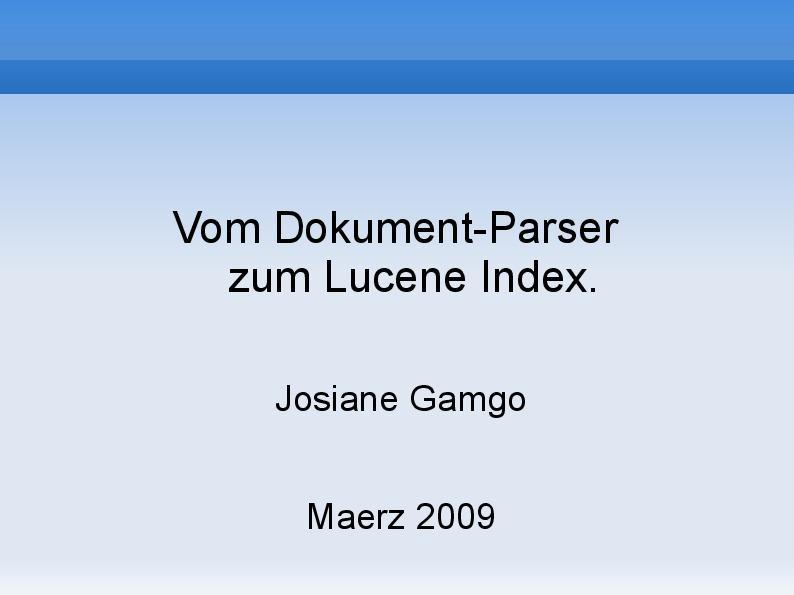title: (166, 192, 633, 337)
